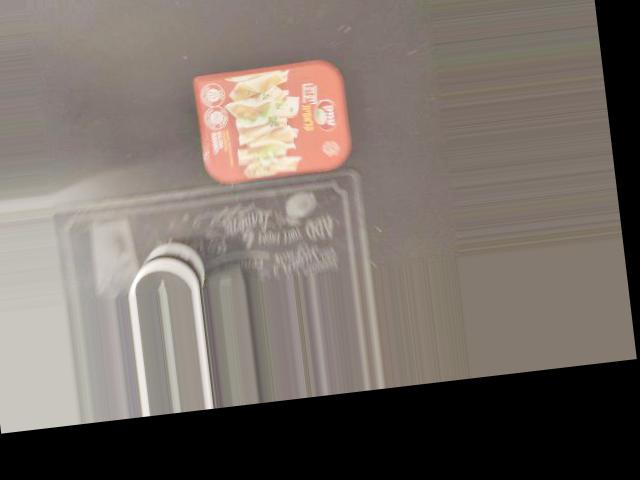cheese: (183, 51, 355, 190)
